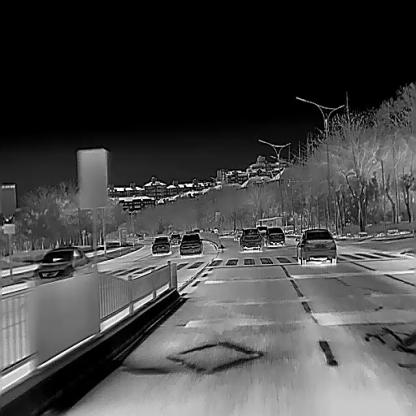car: (30, 245, 97, 286), (296, 227, 337, 265), (239, 227, 263, 252), (179, 232, 203, 256), (263, 226, 285, 245), (151, 235, 171, 254), (169, 233, 181, 245), (255, 225, 266, 238), (232, 228, 242, 240)
